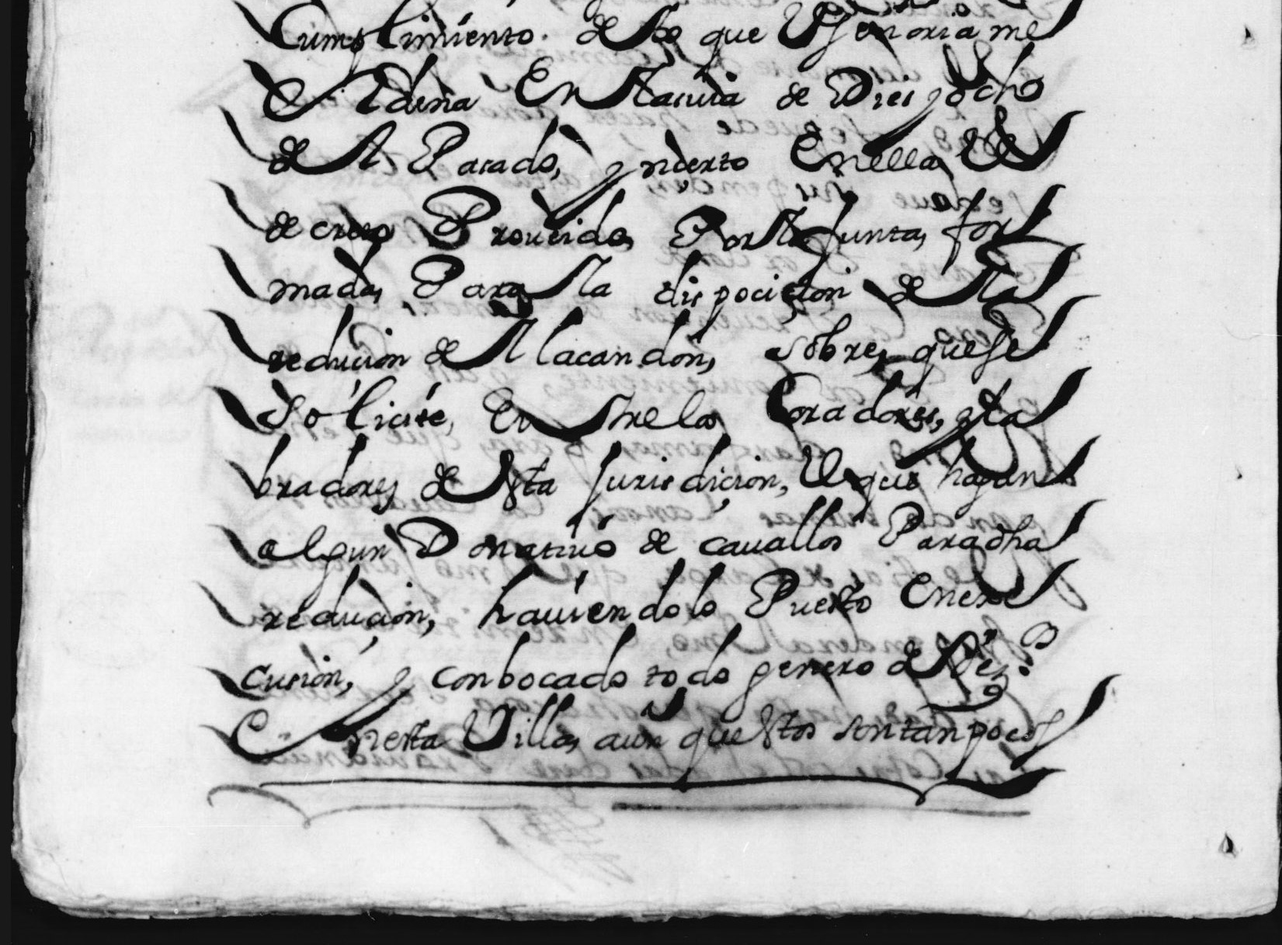lacandon: (537, 306, 708, 367)
